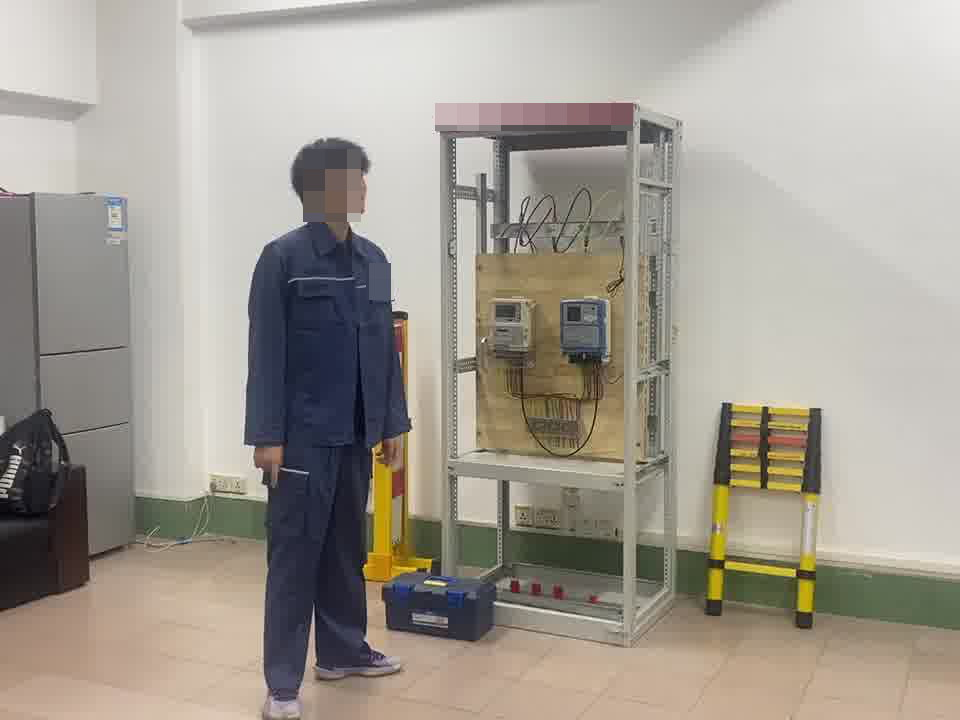downsuit: (256, 457, 382, 700)
hand: (250, 441, 286, 480), (376, 435, 405, 467)
noear: (300, 174, 334, 211)
person: (237, 136, 415, 709)
unhalt: (289, 138, 374, 227)
upsuit: (244, 213, 410, 449)
wrongsuit: (333, 248, 380, 447)
